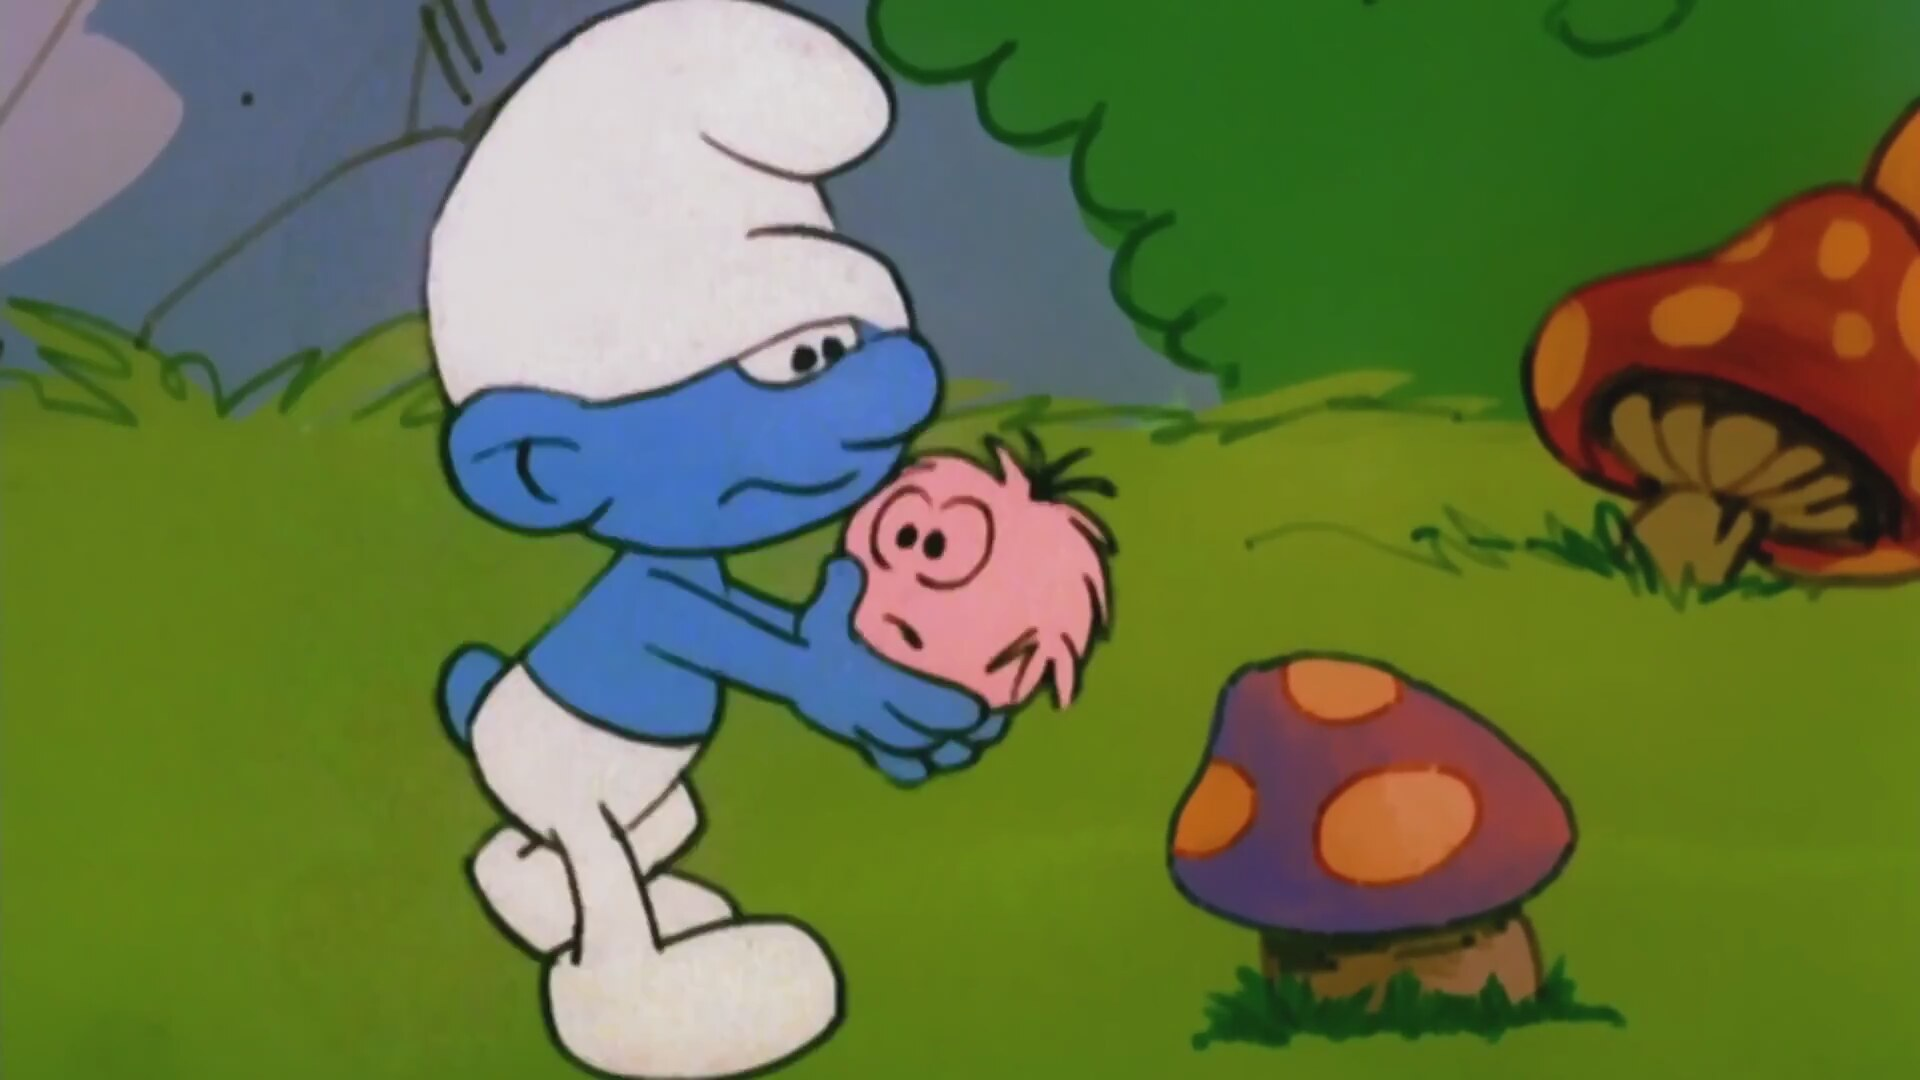smurf: (399, 7, 1021, 1080)
